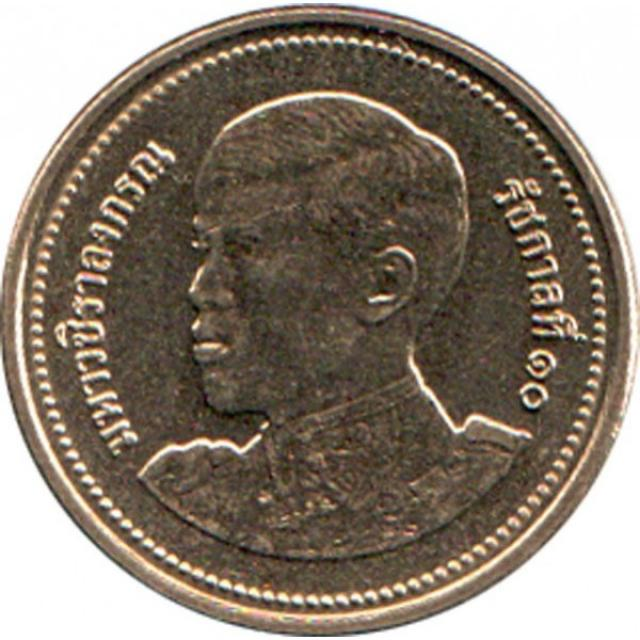2 Bath: (3, 1, 640, 640)
